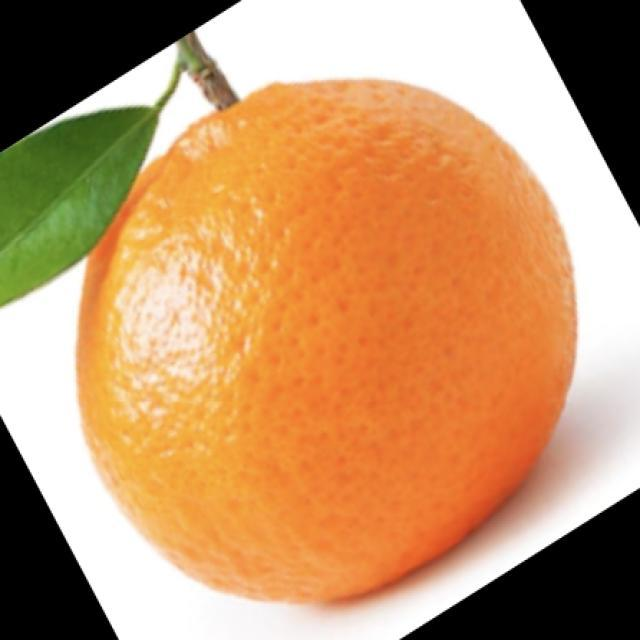Orange: (74, 75, 579, 605)
